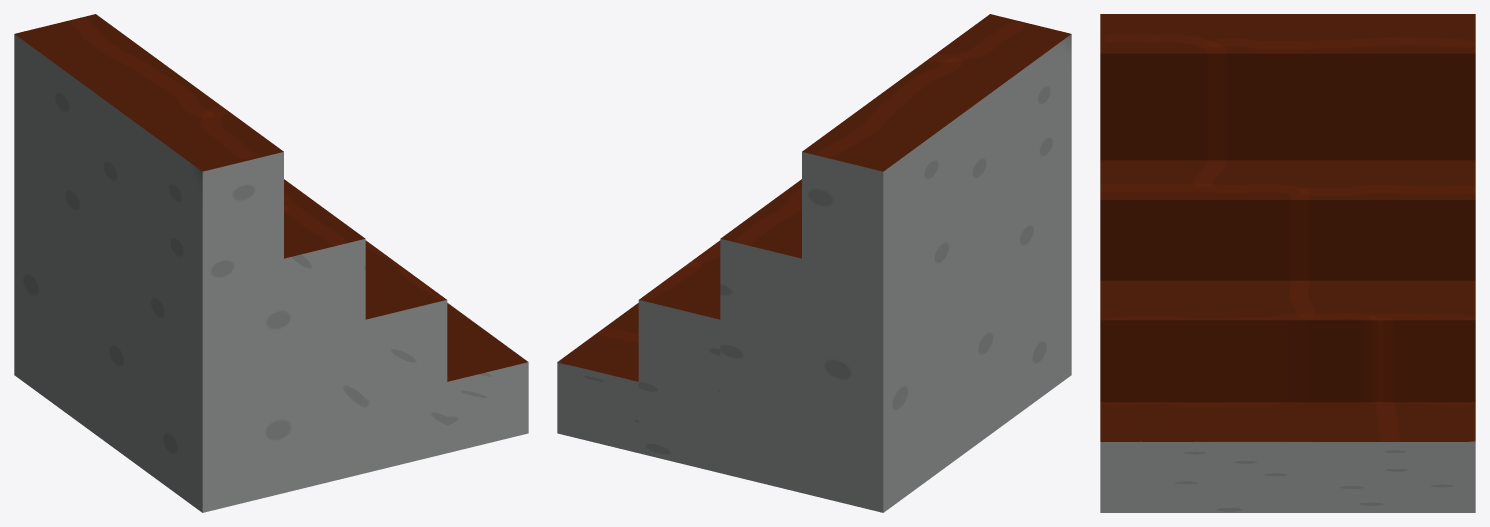
Rendered from Schody.fbx.
The picture shows the model from 3 angles, left to right: view 1: azimuth 30°, elevation 25°; view 2: azimuth 150°, elevation 25°; view 3: azimuth 270°, elevation 25°; orthographic projection.
Visible parts, largest first — view 1: Cube.001; view 2: Cube.001; view 3: Cube.001.
Boxes of the visible parts, left/top/right/bottom form: Cube.001: left=14, top=14, right=528, bottom=512; Cube.001: left=557, top=14, right=1071, bottom=512; Cube.001: left=1100, top=14, right=1475, bottom=512.
Size of the model in its own units: 6 by 6 by 6.
1 material, 1 textured.
